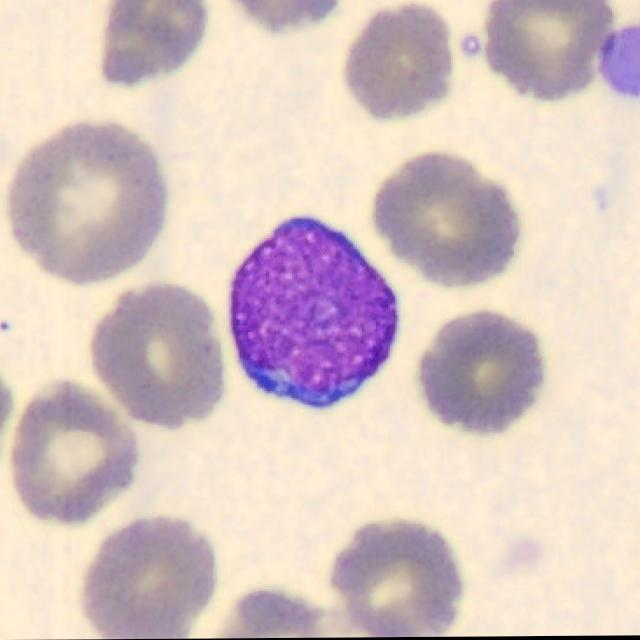Linfocito: (229, 219, 400, 412)
